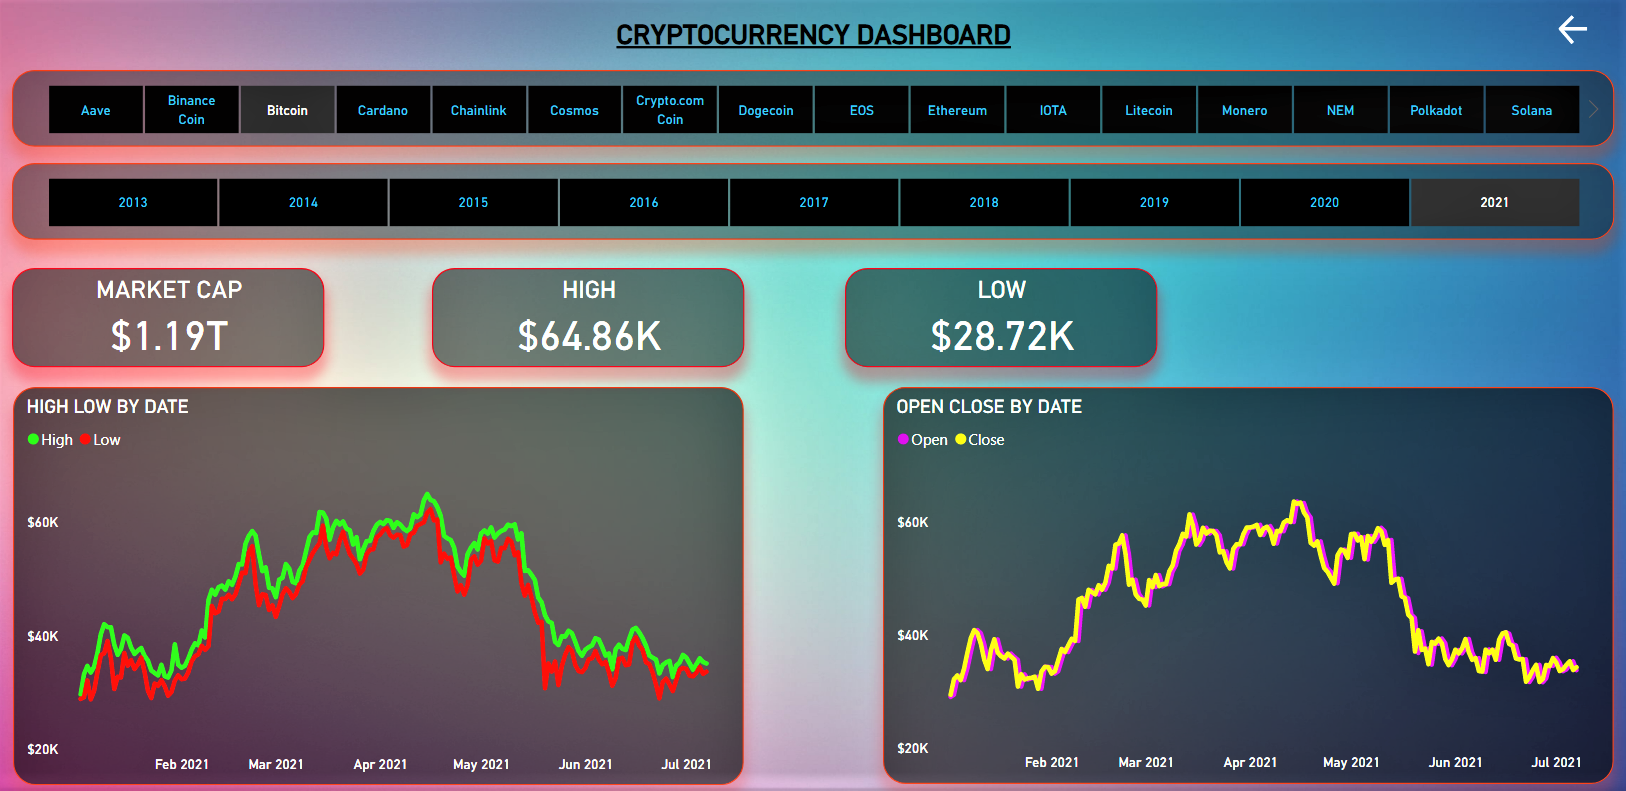

Layout of this report page (visuals, bound fields, positions):
{"tool":"powerbi","page":{"name":"Page 2","canvas":[1445,721],"ordinal":1},"visuals":[{"type":"slicer","fields":{"Values":["Sheet1.Year"]},"box":[12.7,162.7,1420.6,67.8],"z":0},{"type":"slicer","fields":{"Values":["Sheet1.Name"]},"box":[12.7,79.5,1420.6,67.8],"z":1000},{"type":"lineChart","title":"HIGH LOW BY DATE","fields":{"Category":["Sheet1.Date"],"Y":["Max(Sheet1.High)","Min(Sheet1.Low)"]},"box":[13.3,360.9,648.3,353],"z":2000},{"type":"textbox","title":"CRYPTOCURRENCY DASHBOARD","box":[382.3,34.3,682.3,27.1],"z":3000},{"type":"card","title":"MARKET CAP","fields":{"Values":["Max(Sheet1.Marketcap)"]},"box":[12.7,255.7,276.5,87.7],"z":4000},{"type":"card","title":"HIGH","fields":{"Values":["Max(Sheet1.High)"]},"box":[385,255.7,276.5,87.7],"z":5000},{"type":"card","title":"LOW","fields":{"Values":["Min(Sheet1.Low)"]},"box":[751,255.7,276.5,87.7],"z":6000},{"type":"actionButton","box":[1379.9,26.2,56.9,35.2],"z":7000},{"type":"lineChart","title":"OPEN CLOSE BY DATE","fields":{"Category":["Sheet1.Date"],"Y":["Min(Sheet1.Open)","Max(Sheet1.Close)"]},"box":[784.8,361.2,648.5,352.5],"z":7001}]}

Visuals, with their boxes in screenshot pixels (x1, y1, x2, y2), scaled from the page's 1445x721 canvas onto the 1626x791 screenshot:
slicer - Sheet1.Year: locate(14, 178, 1613, 253)
slicer - Sheet1.Name: locate(14, 87, 1613, 162)
"HIGH LOW BY DATE" lineChart: locate(15, 396, 744, 783)
"CRYPTOCURRENCY DASHBOARD" textbox: locate(430, 38, 1198, 67)
"MARKET CAP" card: locate(14, 281, 325, 377)
"HIGH" card: locate(433, 281, 744, 377)
"LOW" card: locate(845, 281, 1156, 377)
actionButton: locate(1553, 29, 1617, 67)
"OPEN CLOSE BY DATE" lineChart: locate(883, 396, 1613, 783)
